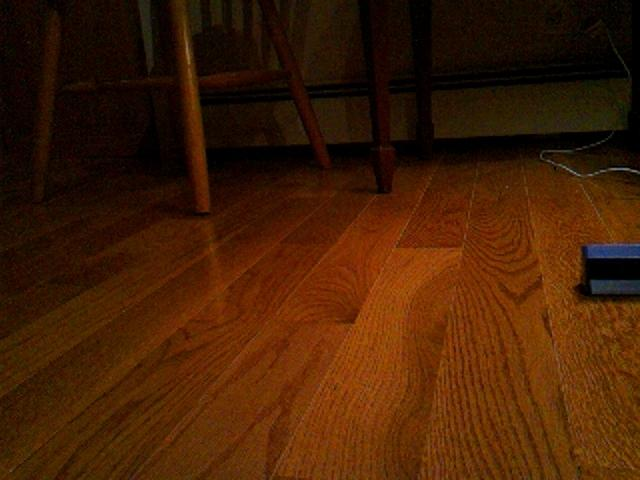blue: (580, 240, 640, 298)
